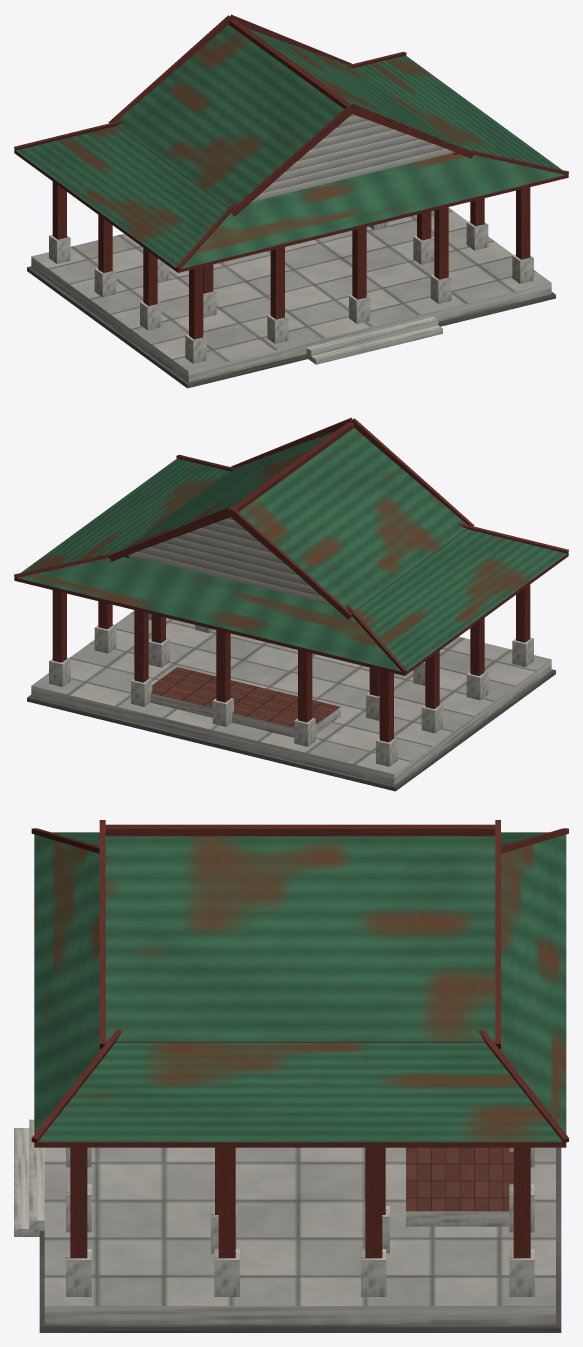
Rendered from Sala.fbx.
3 views of the same model, one above another, from view 1: azimuth 30°, elevation 25°; view 2: azimuth 150°, elevation 25°; view 3: azimuth 270°, elevation 25° (orthographic). The views are drawn at different scales.
Visible parts, largest first — view 1: Sala_Roof, Sala_Base, Sala_Columns; view 2: Sala_Roof, Sala_Base, Sala_Columns; view 3: Sala_Roof, Sala_Base, Sala_Columns.
Part boxes in pixels (<box>): Sala_Roof: <box>14,14,568,272</box>; Sala_Base: <box>27,208,555,388</box>; Sala_Columns: <box>49,152,533,363</box>; Sala_Roof: <box>14,417,568,675</box>; Sala_Base: <box>27,611,555,791</box>; Sala_Columns: <box>49,555,533,766</box>; Sala_Roof: <box>31,820,568,1147</box>; Sala_Base: <box>14,1119,561,1332</box>; Sala_Columns: <box>66,1147,534,1296</box>.
Size of the model in its own units: 1392 by 762 by 1048.
1 material, 1 textured.
